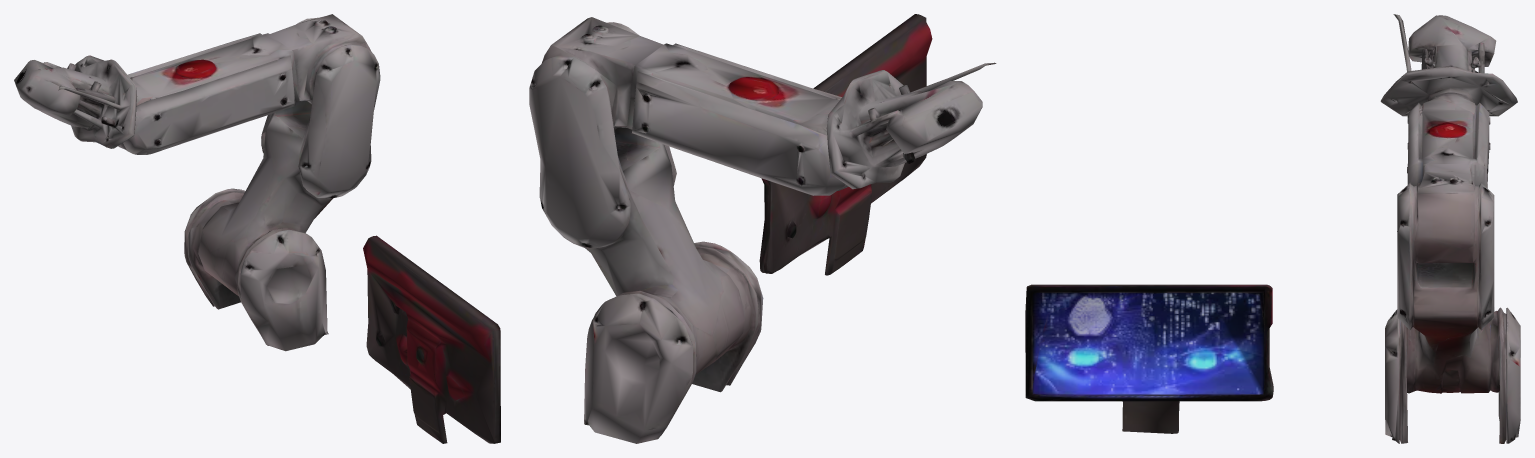
3 views of the same model, side by side, from view 1: azimuth 30°, elevation 25°; view 2: azimuth 150°, elevation 25°; view 3: azimuth 270°, elevation 25° (orthographic). The views are drawn at different scales.
Parts seen in each view (by area): view 1: node_0; view 2: node_0; view 3: node_0.
Boxes of the visible parts, x1,y1,x2,y2 form: node_0: (14, 14, 500, 443); node_0: (529, 14, 996, 443); node_0: (1025, 14, 1520, 443).
Size of the model in its own units: 0.7269 by 0.634 by 0.9374.
Materials: 1 (1 with a texture image).
